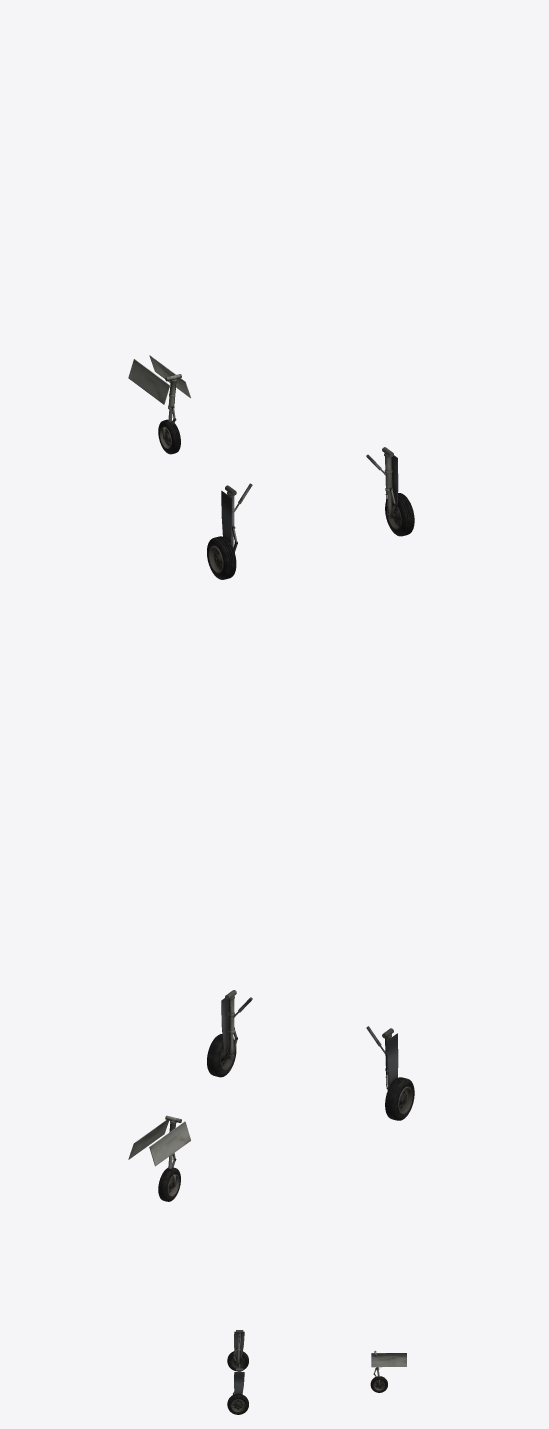
File: su17_gear.glb
3 renders of one model, top to bottom at view 1: azimuth 30°, elevation 25°; view 2: azimuth 150°, elevation 25°; view 3: azimuth 270°, elevation 25°, orthographic. The views are drawn at different scales.
Visible parts, largest first — view 1: gear_w_l, gear_n, gear_m_r, gear_door_n_l, gear_m_l, gear_w_r; view 2: gear_w_l, gear_m_r, gear_door_n_l, gear_n, gear_m_l, gear_w_r; view 3: gear_door_n_r, gear_w_r, gear_m_l, gear_n, gear_w_l, gear_m_r.
Boxes of the visible parts, x1=… form: gear_w_l: x1=207, y1=536, x2=236, y2=579; gear_n: x1=158, y1=374, x2=181, y2=454; gear_m_r: x1=366, y1=447, x2=398, y2=518; gear_door_n_l: x1=128, y1=359, x2=169, y2=404; gear_m_l: x1=214, y1=483, x2=252, y2=561; gear_w_r: x1=385, y1=493, x2=414, y2=536; gear_w_l: x1=385, y1=1077, x2=414, y2=1120; gear_m_r: x1=221, y1=990, x2=252, y2=1059; gear_door_n_l: x1=149, y1=1121, x2=190, y2=1166; gear_n: x1=158, y1=1115, x2=181, y2=1201; gear_m_l: x1=366, y1=1026, x2=406, y2=1102; gear_w_r: x1=207, y1=1034, x2=236, y2=1077; gear_door_n_r: x1=371, y1=1356, x2=406, y2=1367; gear_w_r: x1=227, y1=1393, x2=248, y2=1414; gear_m_l: x1=232, y1=1330, x2=244, y2=1363; gear_n: x1=370, y1=1350, x2=387, y2=1392; gear_w_l: x1=227, y1=1351, x2=248, y2=1371; gear_m_r: x1=233, y1=1364, x2=244, y2=1406.
Bounding box in the file's own units: 4.17 × 6.79 × 19.75.
1 material, 1 textured.
